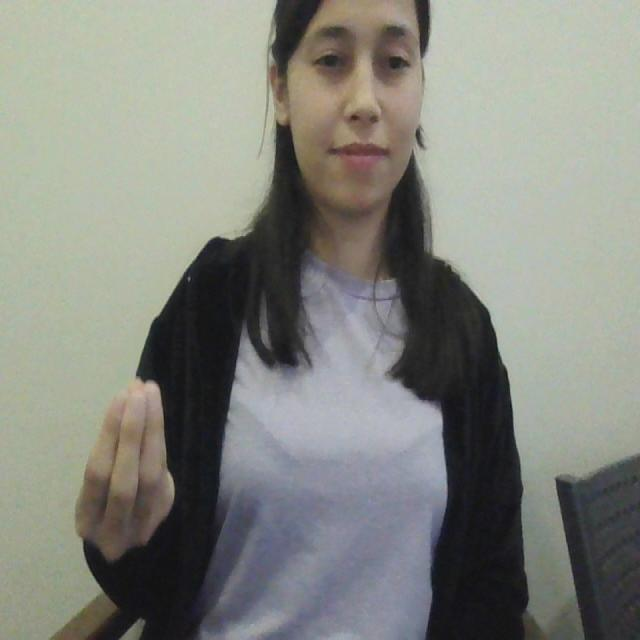iyi: (72, 369, 178, 571)
